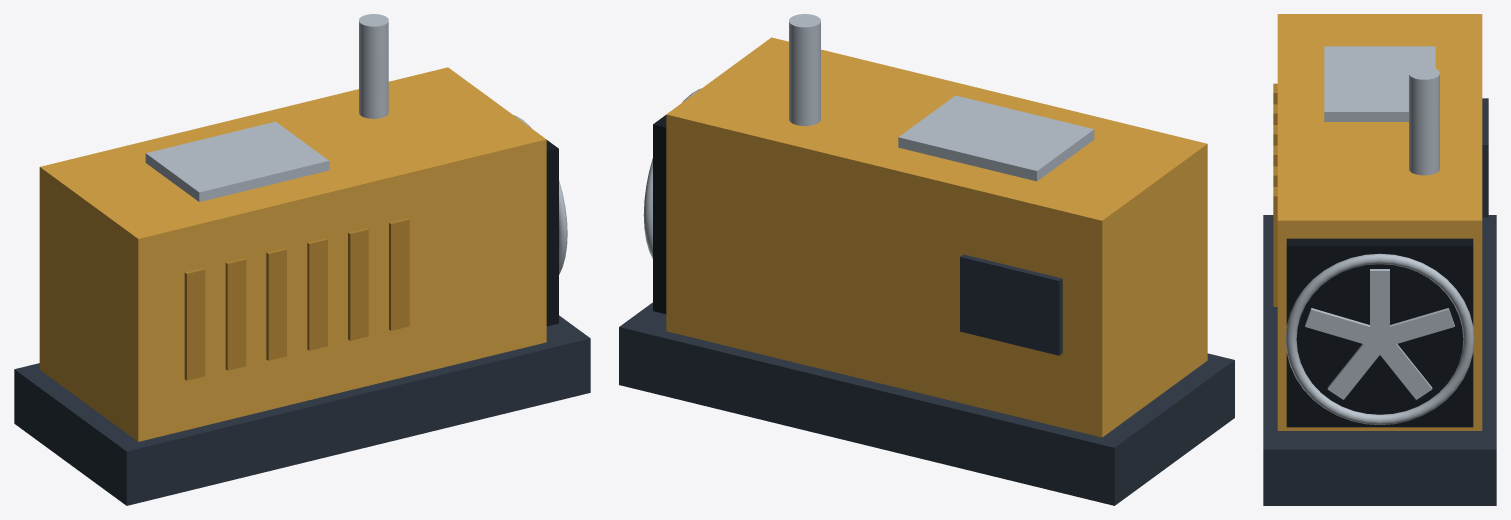
File: genset.glb
The picture shows the model from 3 angles, left to right: view 1: azimuth 30°, elevation 25°; view 2: azimuth 150°, elevation 25°; view 3: azimuth 270°, elevation 25°; orthographic projection. The views are drawn at different scales.
Parts seen in each view (by area): view 1: part_engine (×8), part_tank, part_exhaust, part_radiator (×2); view 2: part_engine (×2), part_tank, part_alternator, part_exhaust, part_radiator (×2); view 3: part_engine (×3), part_radiator (×7), part_tank, part_exhaust, part_alternator.
Part boxes in pixels (left/top/right/bottom): part_engine (×8): left=39, top=67, right=546, bottom=441; part_tank: left=14, top=315, right=590, bottom=505; part_exhaust: left=359, top=14, right=388, bottom=118; part_radiator (×2): left=513, top=115, right=567, bottom=326; part_engine (×2): left=666, top=37, right=1207, bottom=437; part_tank: left=619, top=302, right=1234, bottom=505; part_alternator: left=960, top=254, right=1062, bottom=355; part_exhaust: left=789, top=14, right=820, bottom=125; part_radiator (×2): left=643, top=88, right=701, bottom=313; part_engine (×3): left=1273, top=14, right=1482, bottom=430; part_radiator (×7): left=1285, top=238, right=1474, bottom=427; part_tank: left=1263, top=215, right=1496, bottom=505; part_exhaust: left=1409, top=66, right=1439, bottom=175; part_alternator: left=1482, top=98, right=1488, bottom=217.
Size of the model in its own units: 2.5 by 1.8 by 1.05.
